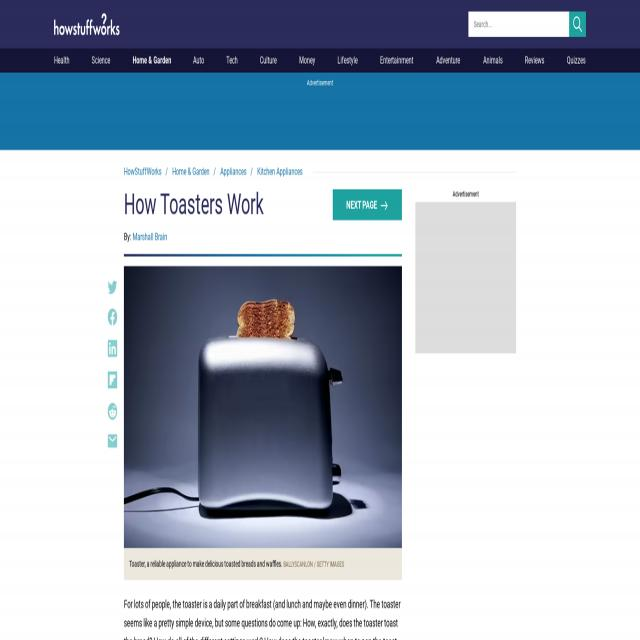button: (124, 266, 402, 550), (332, 190, 402, 222), (54, 14, 120, 35), (569, 12, 586, 38), (106, 429, 118, 453), (107, 308, 118, 328), (107, 401, 117, 422), (108, 340, 117, 357), (108, 372, 117, 388), (108, 281, 117, 294)
field: (469, 12, 569, 37)
